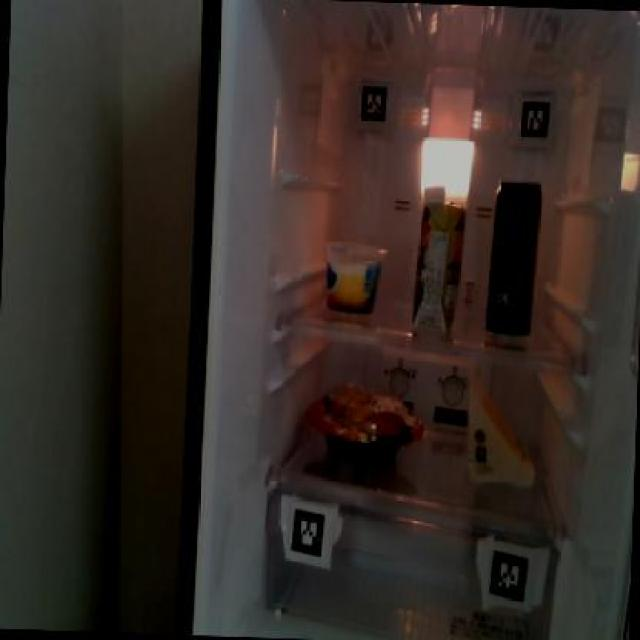bento: (306, 386, 426, 465)
energy_drink: (484, 173, 542, 336)
pudding: (321, 234, 384, 312)
sandwich: (464, 368, 544, 490)
smoothie: (410, 180, 468, 332)
